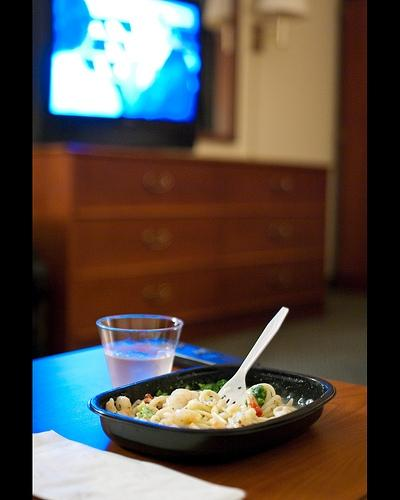broccoli: (194, 380, 227, 394), (252, 384, 268, 408), (155, 390, 163, 397)
